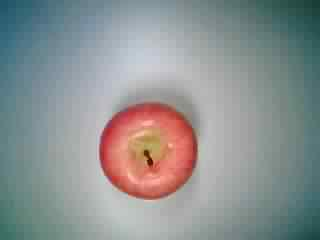apple: (96, 101, 201, 199)
